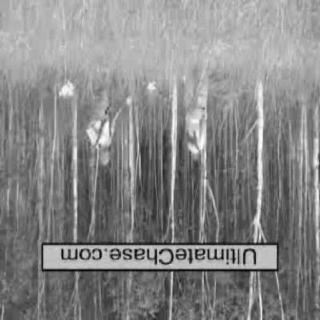Fire: (53, 73, 73, 104)
